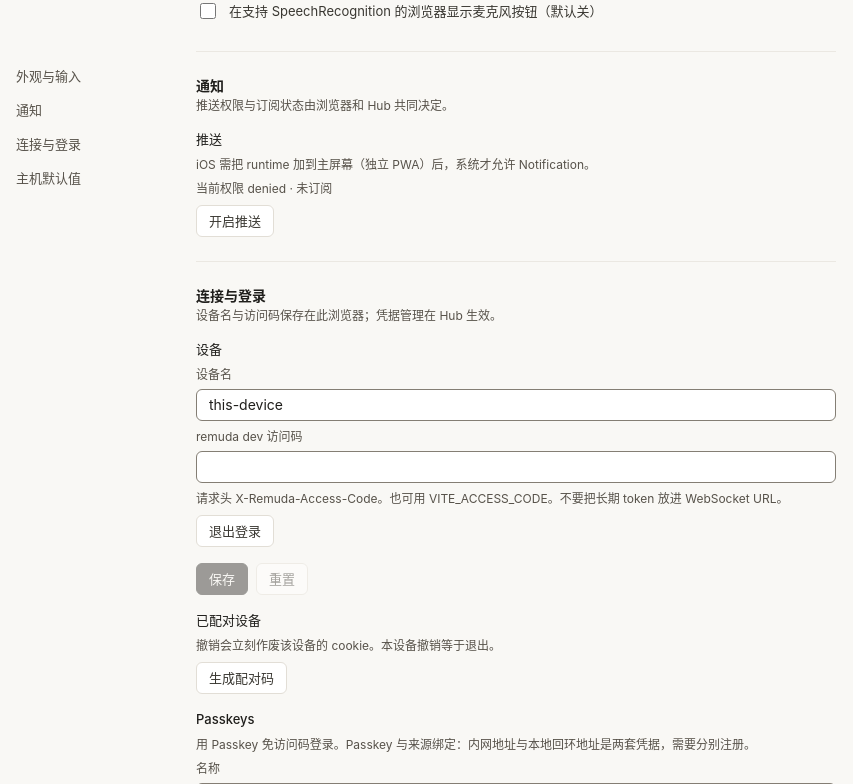
Test case: save states and rollback › a successful identity save stores device name and access code
The image size is (853, 784).
(page scrolled)
Replace the text in the field with test id "settings-device-name" with "desk-2" at (516, 405), box [196,389,836,421]
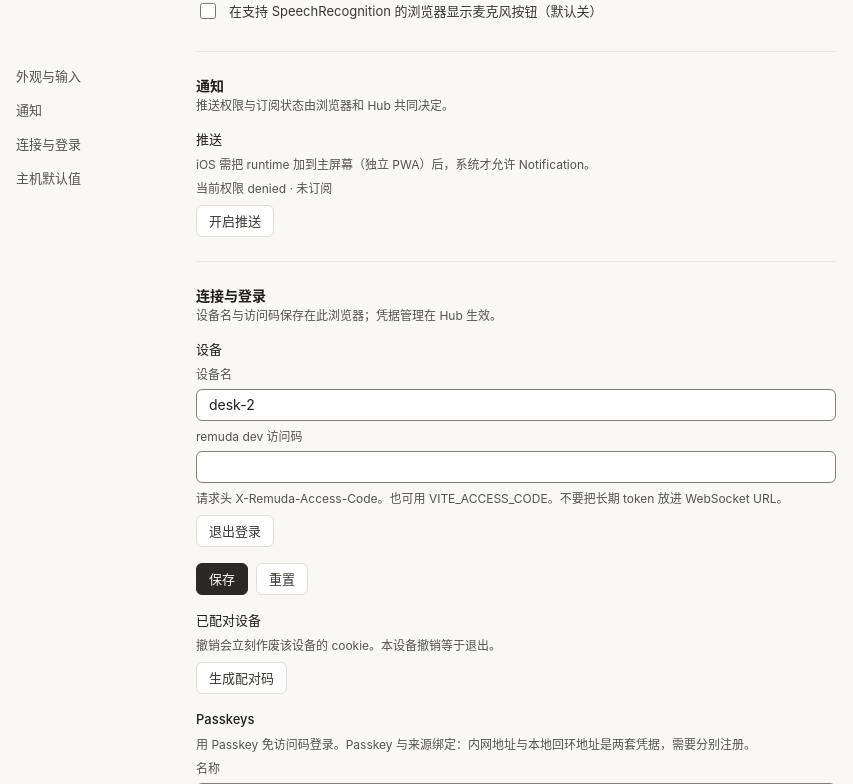
Click the button with test id "settings-identity-save".
click(222, 579)  # box [196,563,248,595]
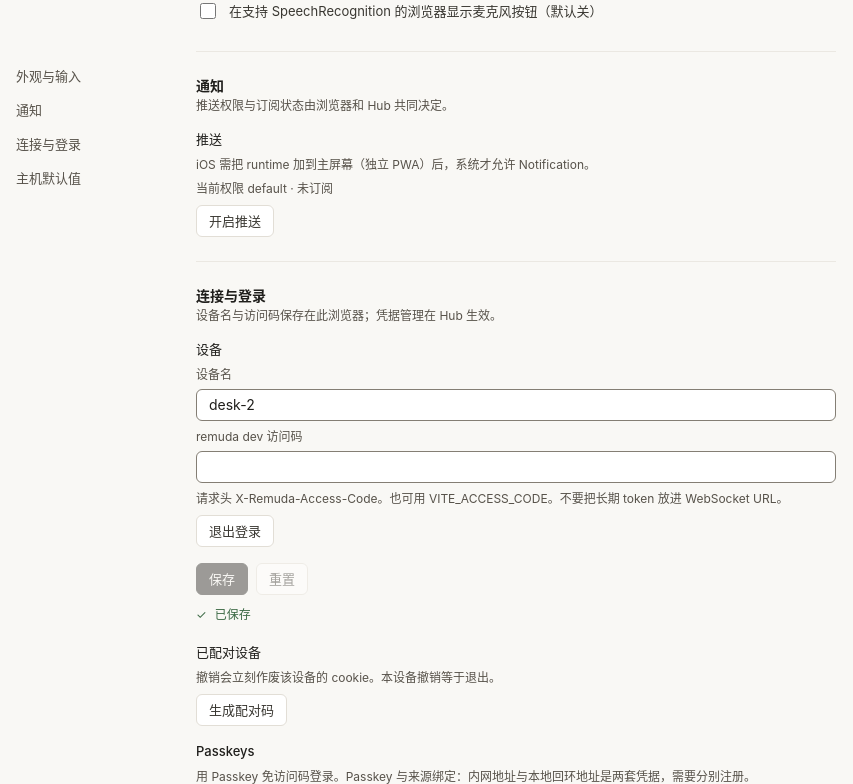
Expected: the message with test id "settings-identity-status" shows "已保存", [215,607,251,622]
